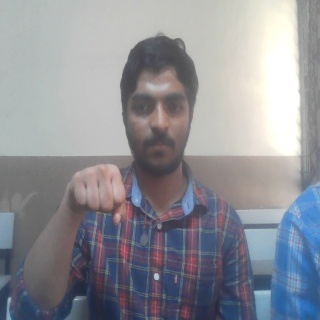Face: (118, 35, 199, 166)
Yes: (68, 164, 126, 226)
